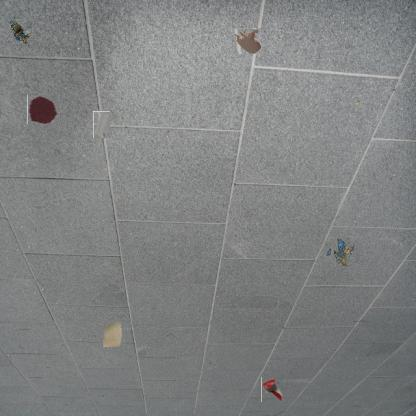dirty: (101, 321, 123, 349), (8, 19, 32, 43), (328, 240, 352, 264), (261, 376, 282, 402), (93, 111, 110, 138)
liquid: (28, 94, 58, 125), (233, 28, 261, 54)
